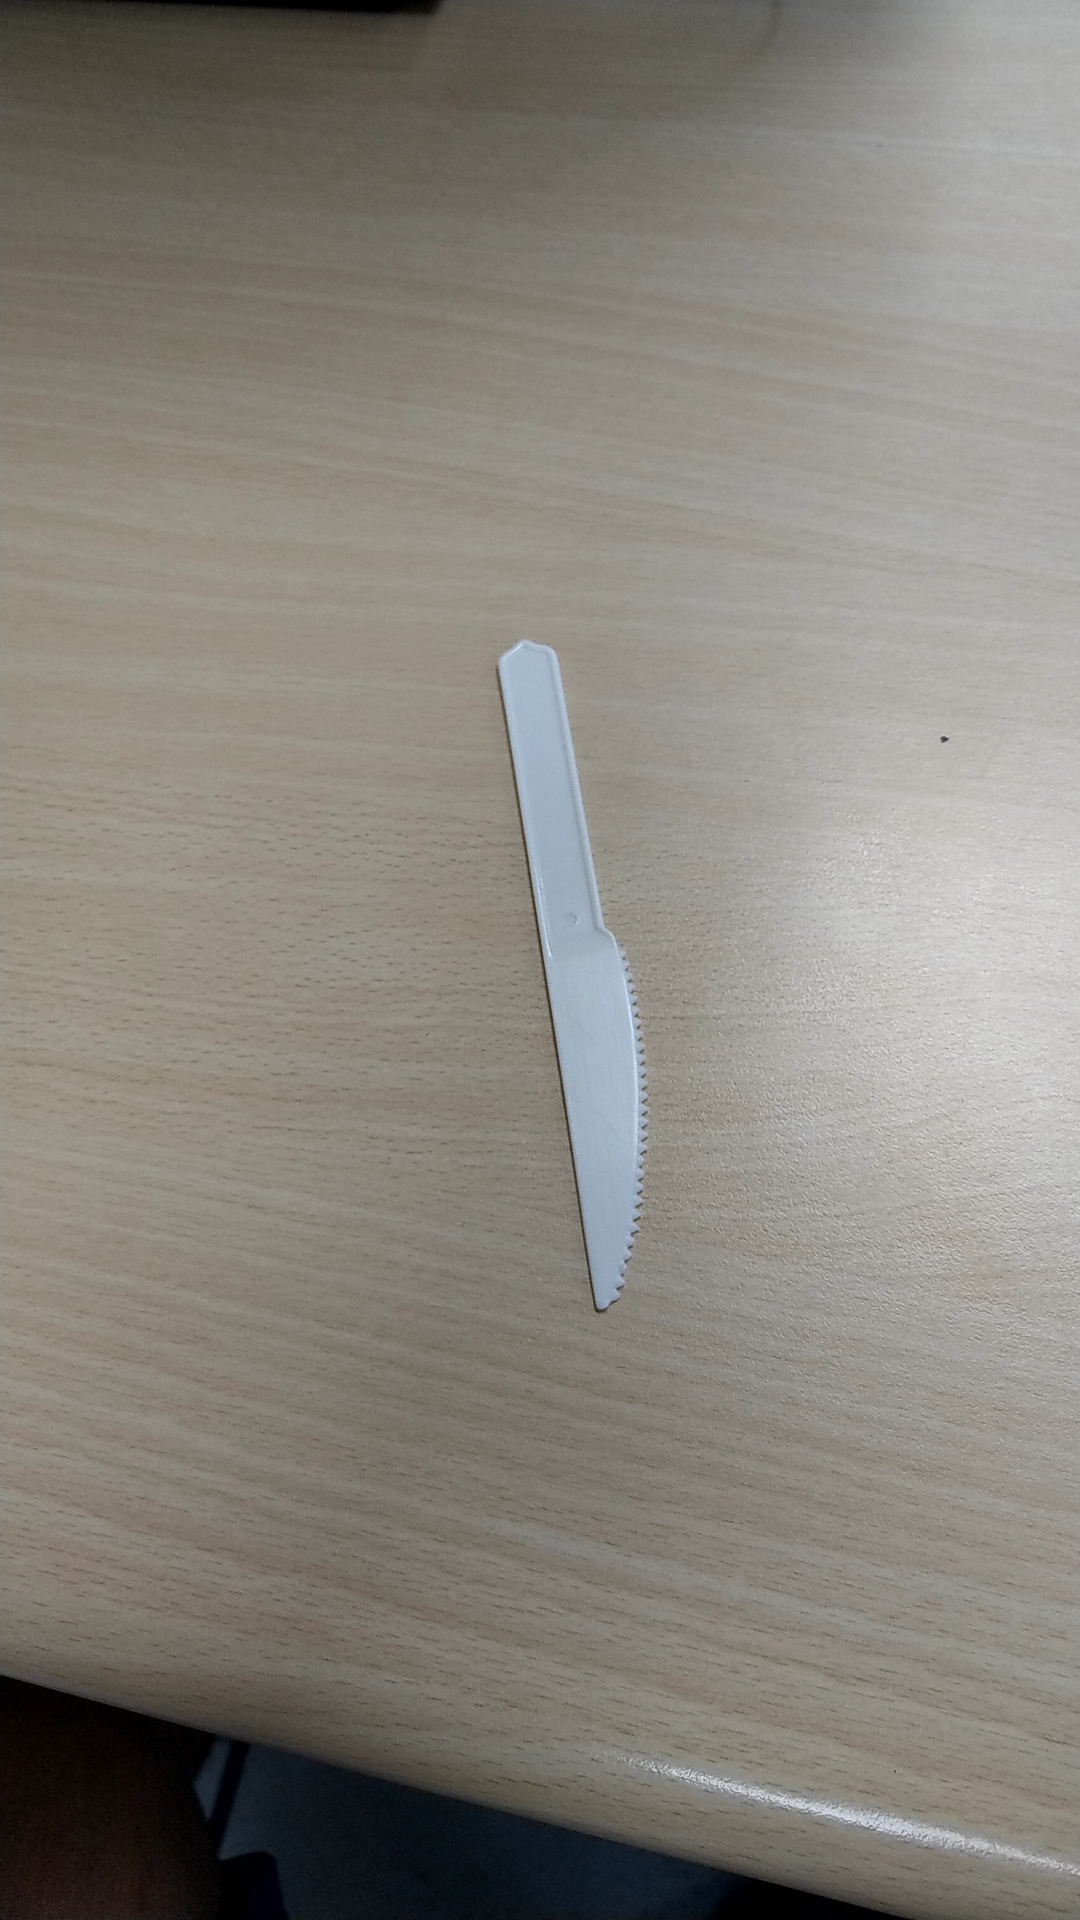knife: (498, 589, 676, 1342)
